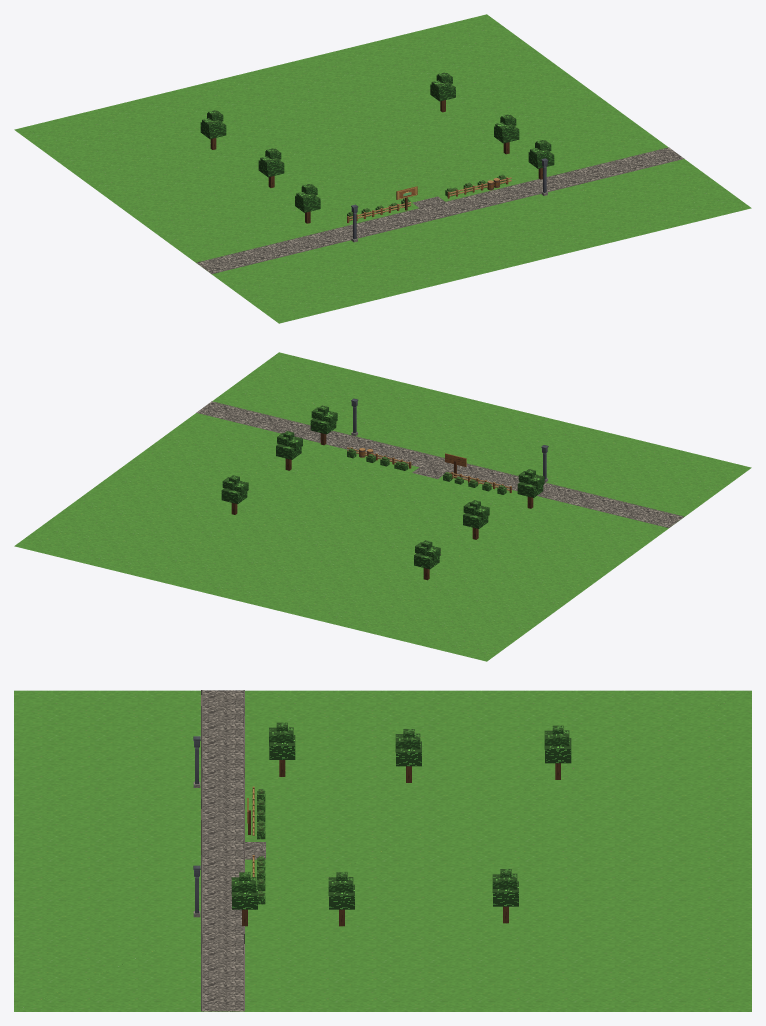
The model's file is exterior.glb.
The picture shows the model from 3 angles, top to bottom: view 1: azimuth 30°, elevation 25°; view 2: azimuth 150°, elevation 25°; view 3: azimuth 270°, elevation 25°; orthographic projection. The views are drawn at different scales.
Visible parts, largest first — view 1: root; view 2: root; view 3: root.
Part boxes in pixels (x1=…): root: x1=14, y1=14, x2=751, y2=323; root: x1=14, y1=352, x2=751, y2=661; root: x1=14, y1=690, x2=751, y2=1011.
Bounding box in the file's own units: 2040 × 150 × 1980.
4 materials, 4 textured.
